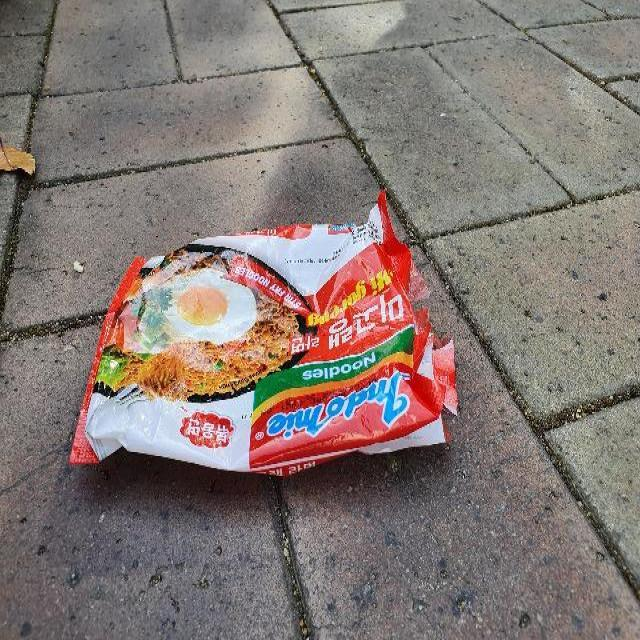plastic bag: (63, 190, 461, 476)
